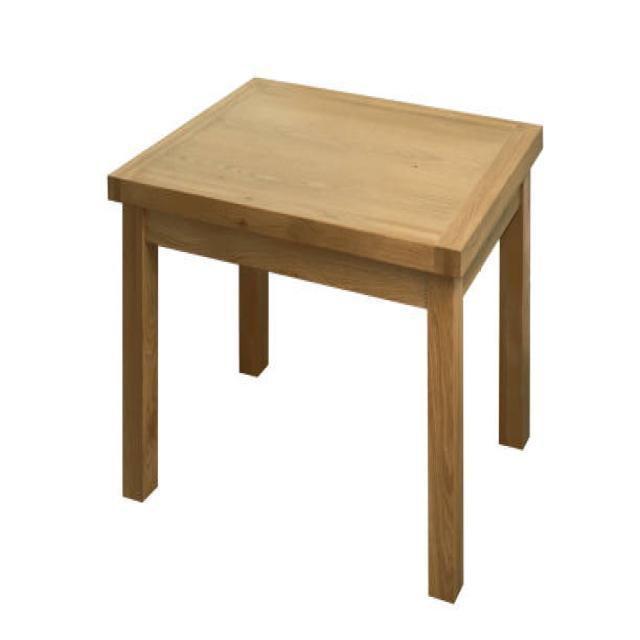table: (107, 72, 542, 604)
